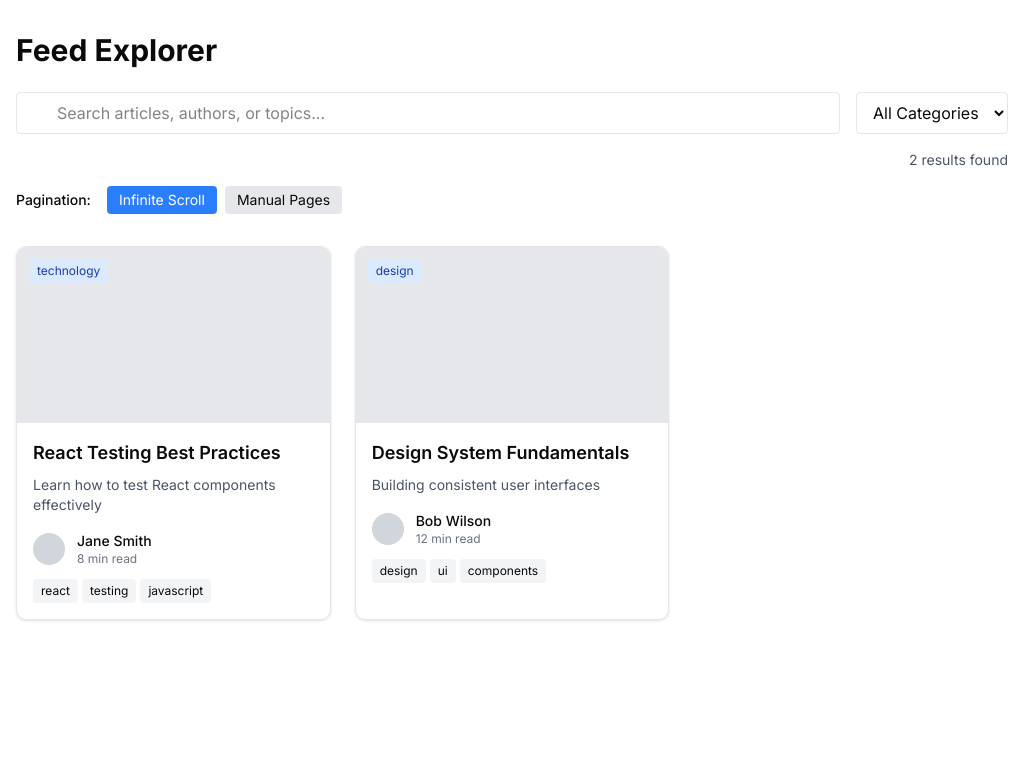
Test: Feed Integration Tests (Working) › handles pagination mode toggle
Switch to manual pagination
Click the button "Manual Pages" at (284, 200), box [225,186,342,214]
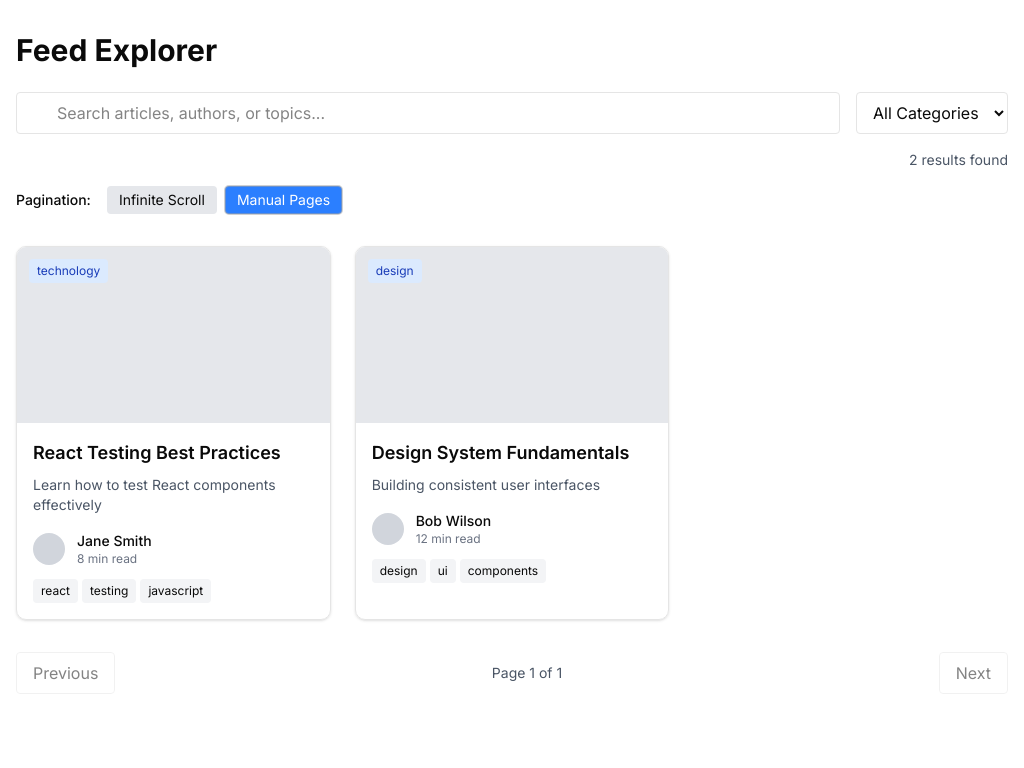
Check: the button "Previous" is shown, box [16,652,115,694]
Check: the button "Next" is shown, box [939,652,1008,694]
Check: the text "Page 1 of 1" is shown, box [492,663,562,683]
